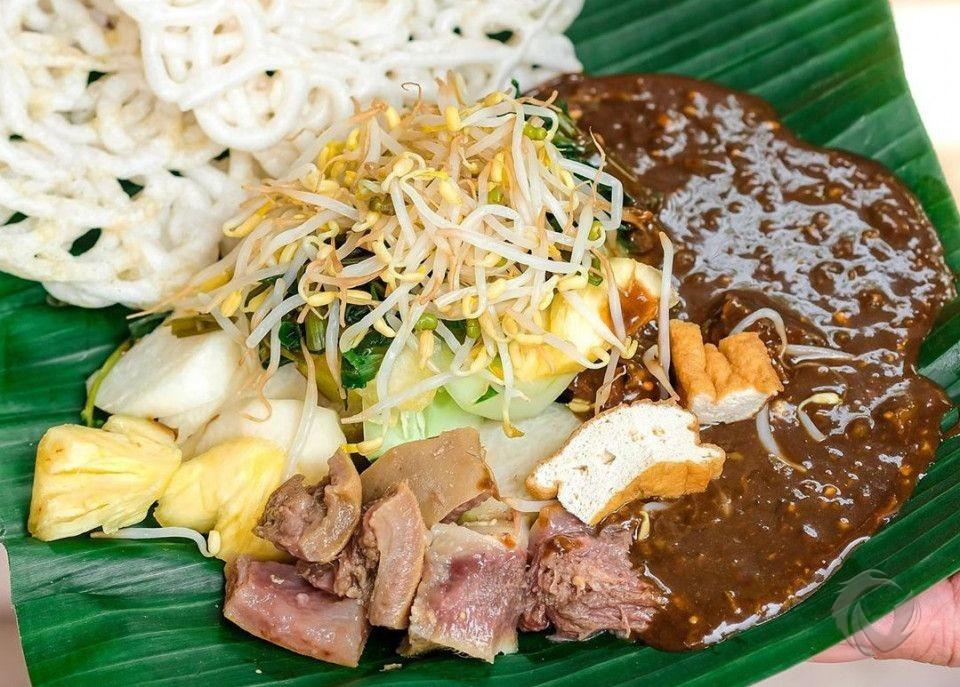rujak_cingur: (29, 76, 950, 668)
